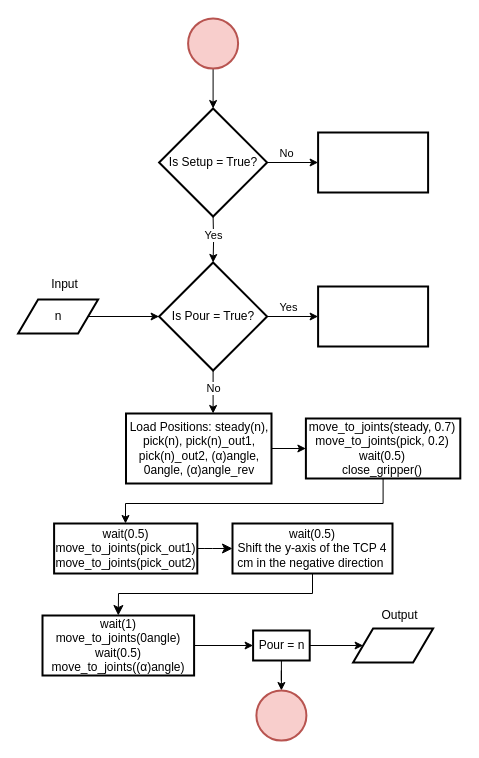
Image size: 479x758. Some labels were removed from this diagram. Each missing label, with the centre of its shape:
End: the point at 281,715
Print('Process is already ON') return: the point at 373,316
Print('Set the balance up first') return: the point at 373,162
return Pour: the point at 393,645
Start: the point at 213,43
